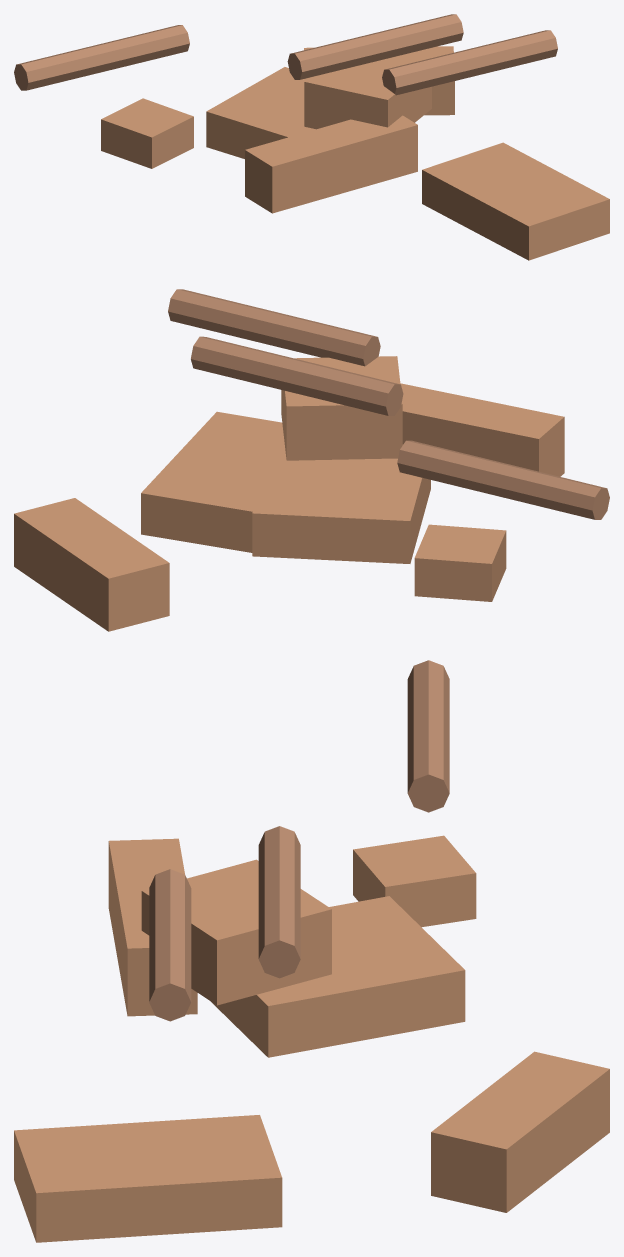
Rendered from scrap_pile_01.glb.
The picture shows the model from 3 angles, top to bottom: view 1: azimuth 30°, elevation 25°; view 2: azimuth 150°, elevation 25°; view 3: azimuth 270°, elevation 25°; orthographic projection. The views are drawn at different scales.
Parts seen in each view (by area): view 1: scrap5, scrap4, scrap8, scrap1, pipe3, pipe6, pipe0, scrap2, scrap7; view 2: scrap1, scrap7, scrap5, scrap4, scrap8, pipe6, pipe3, pipe0, scrap2; view 3: scrap5, scrap1, scrap7, scrap8, scrap2, scrap4, pipe6, pipe3, pipe0.
Boxes of the visible parts, left/top/right/bottom form: scrap5: left=422, top=142, right=609, bottom=260; scrap4: left=245, top=115, right=417, bottom=213; scrap8: left=304, top=56, right=431, bottom=129; scrap1: left=206, top=67, right=315, bottom=158; pipe3: left=287, top=14, right=463, bottom=79; pipe6: left=14, top=25, right=189, bottom=90; pipe0: left=382, top=30, right=557, bottom=95; scrap2: left=101, top=98, right=193, bottom=168; scrap7: left=304, top=46, right=454, bottom=115; scrap1: left=252, top=438, right=430, bottom=563; scrap7: left=14, top=498, right=169, bottom=631; scrap5: left=141, top=411, right=283, bottom=552; scrap4: left=400, top=383, right=564, bottom=476; scrap8: left=281, top=356, right=402, bottom=460; pipe6: left=397, top=440, right=609, bottom=519; pipe3: left=191, top=336, right=403, bottom=415; pipe0: left=168, top=289, right=380, bottom=366; scrap2: left=414, top=524, right=506, bottom=601; scrap5: left=14, top=1115, right=282, bottom=1242; scrap1: left=211, top=896, right=465, bottom=1057; scrap7: left=431, top=1051, right=609, bottom=1212; scrap8: left=141, top=859, right=331, bottom=1005; scrap2: left=353, top=835, right=476, bottom=927; scrap4: left=108, top=838, right=197, bottom=1016; pipe6: left=407, top=660, right=449, bottom=812; pipe3: left=258, top=826, right=300, bottom=978; pipe0: left=149, top=869, right=191, bottom=1021.
Bounding box in the file's own units: 1.28 × 0.4805 × 0.9914.
